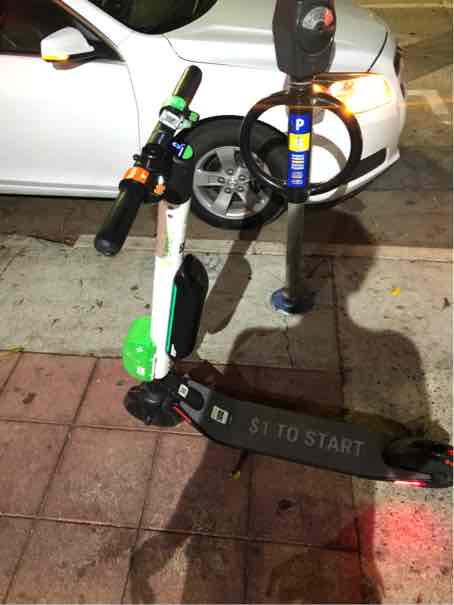scooter: (88, 60, 454, 501)
